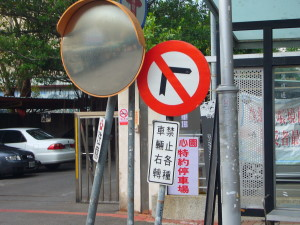No_right_turn: (136, 39, 210, 114)
